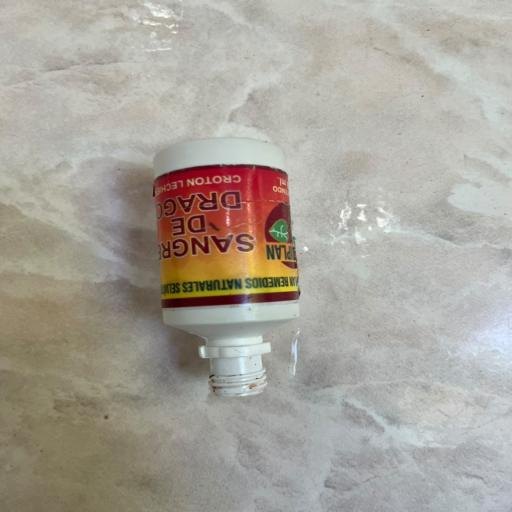HDPE: (134, 116, 356, 423)
